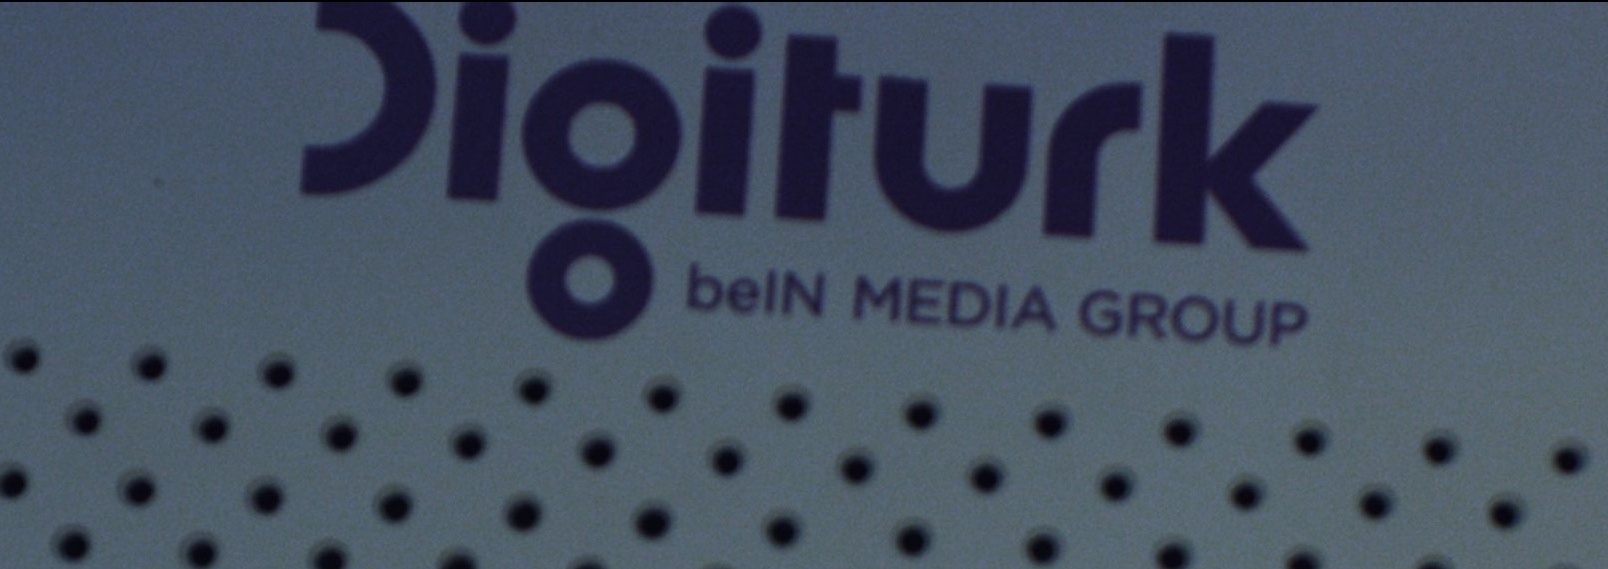BW_H168ADigiturk: (298, 8, 1338, 381)
